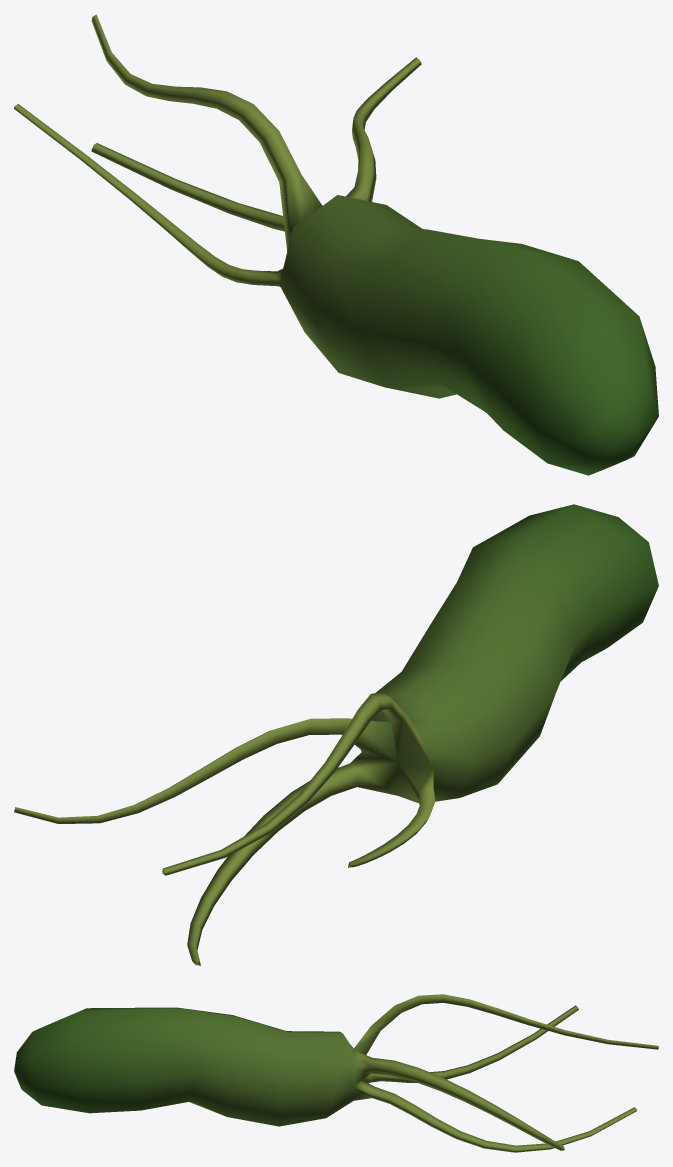
The model's file is microscopic-bacteria-tailed-bacterium_v2.glb.
The picture shows the model from 3 angles, top to bottom: view 1: azimuth 30°, elevation 25°; view 2: azimuth 150°, elevation 25°; view 3: azimuth 270°, elevation 25°; orthographic projection. The views are drawn at different scales.
Visible parts, largest first — view 1: Tailed Bacterium_v2; view 2: Tailed Bacterium_v2; view 3: Tailed Bacterium_v2.
Part boxes in pixels (bbox=[...]): Tailed Bacterium_v2: bbox=[14, 14, 658, 475]; Tailed Bacterium_v2: bbox=[14, 504, 658, 965]; Tailed Bacterium_v2: bbox=[14, 994, 658, 1152].
Bounding box in the file's own units: 0.1733 × 0.088 × 0.4.
